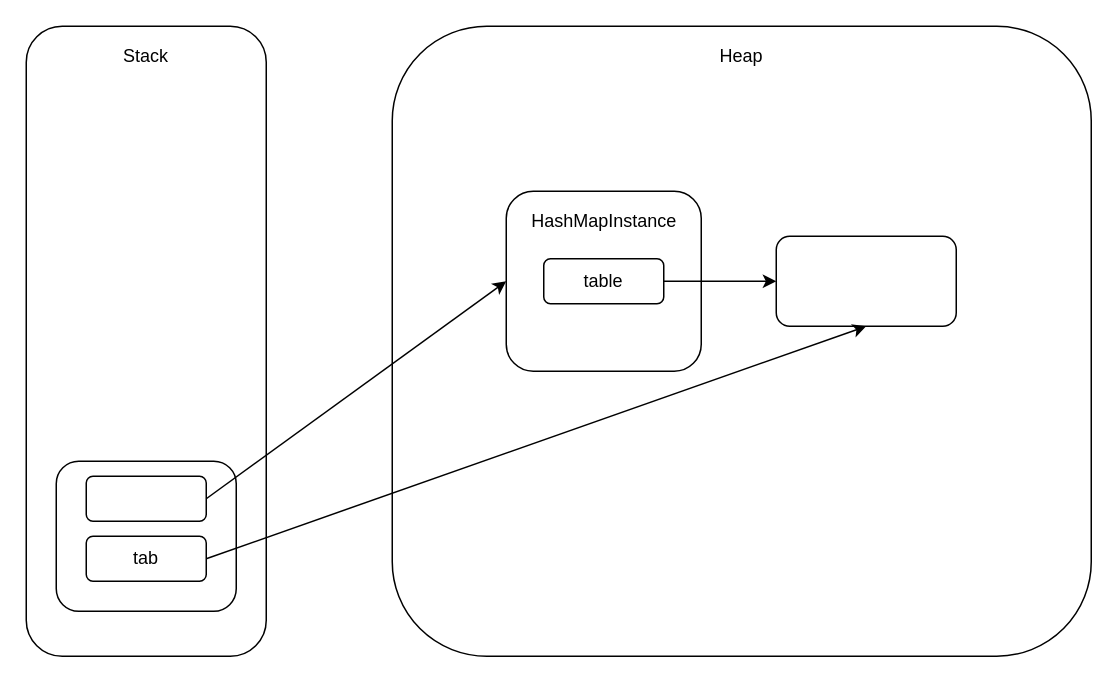
The diagram is 1118 pixels wide and 683 high, and some of its shapes have lost their labels. Each missing label, with the centre of its shape:
"HashMapRef" goes at (145,498).
"tableInstance" goes at (865,280).
